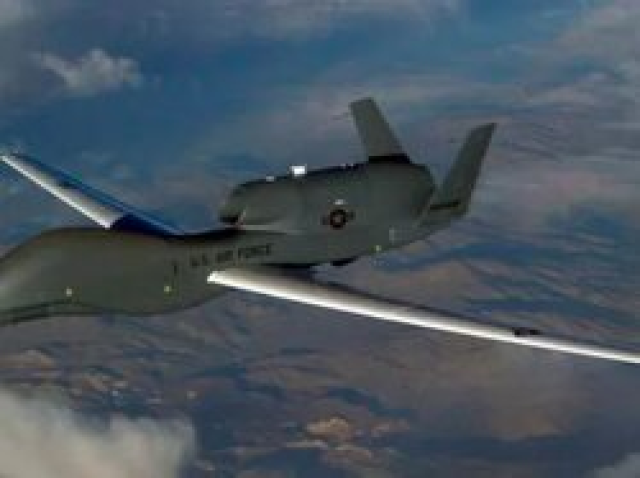military drone: (0, 97, 640, 365)
